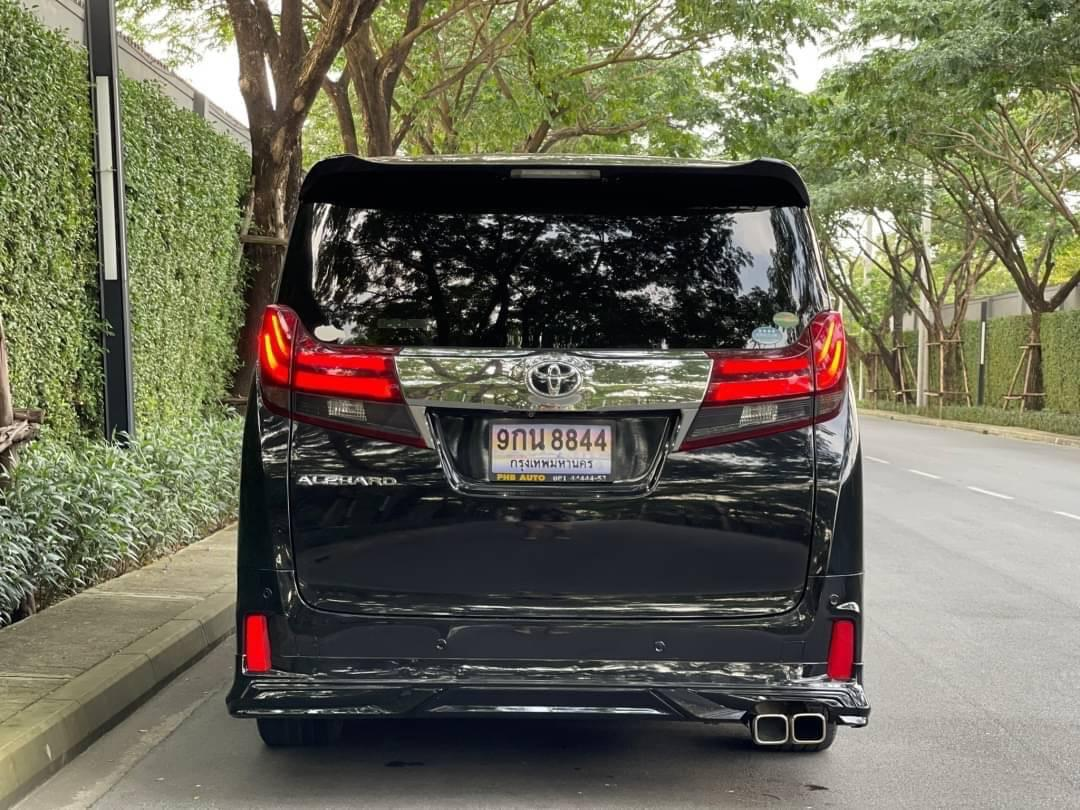license-plate: (488, 417, 617, 484)
